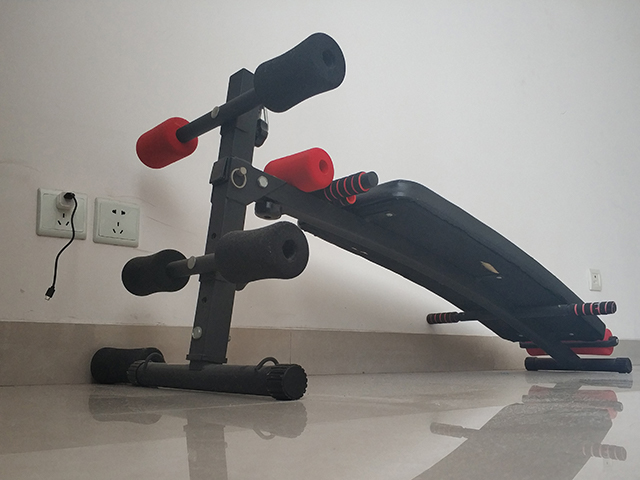wire: (42, 190, 81, 300)
